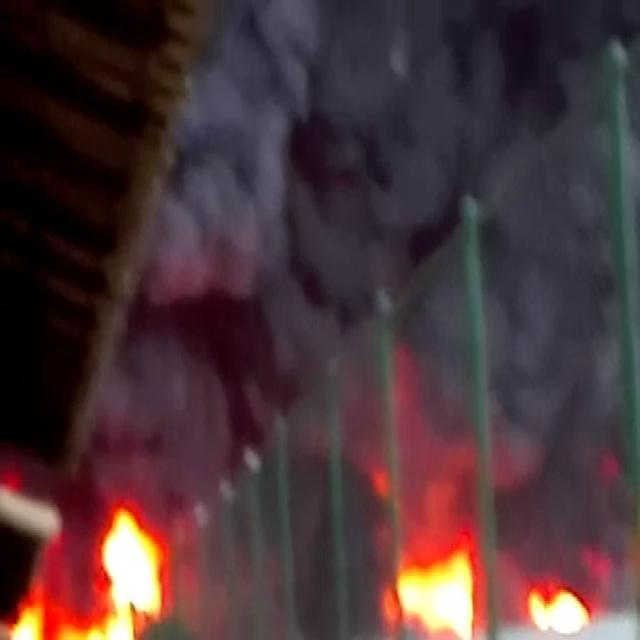Fire: (100, 518, 168, 622), (398, 559, 475, 627), (532, 592, 586, 636)
Smoke: (165, 142, 262, 270)
